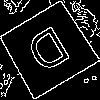D: (23, 24, 78, 83)
